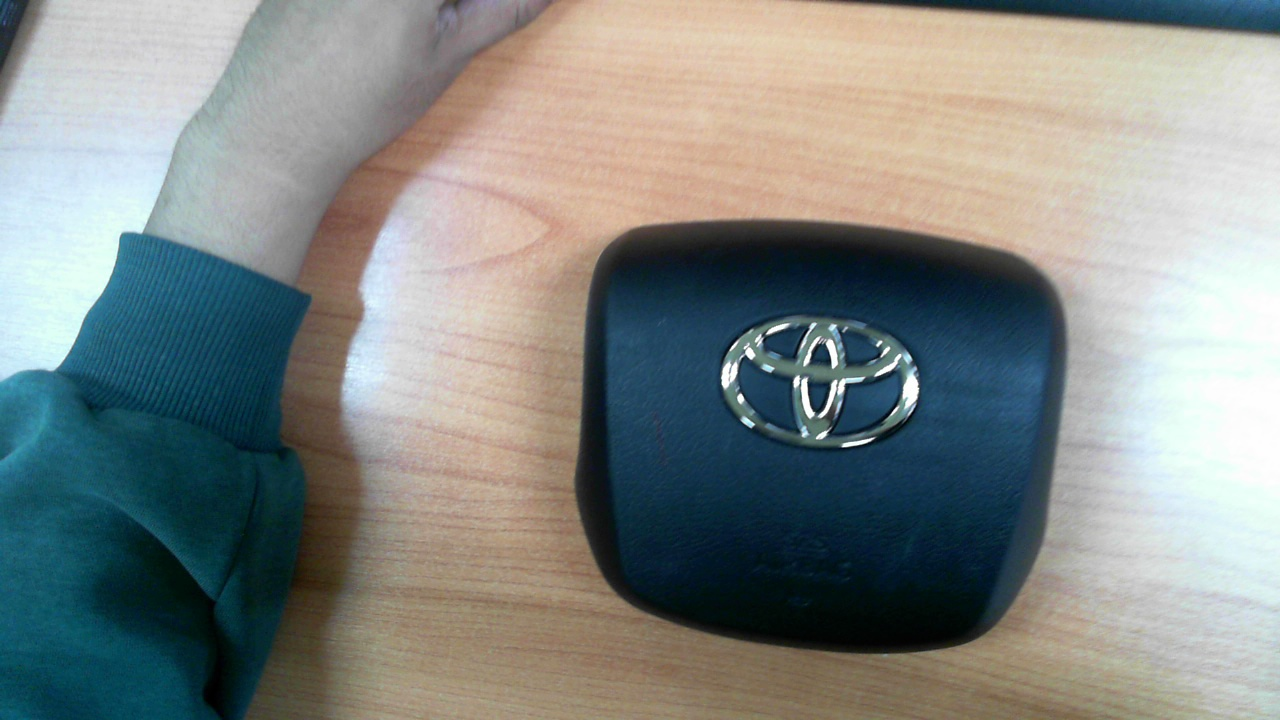Airbag: (573, 219, 1069, 656)
Toyota: (720, 315, 919, 449)
